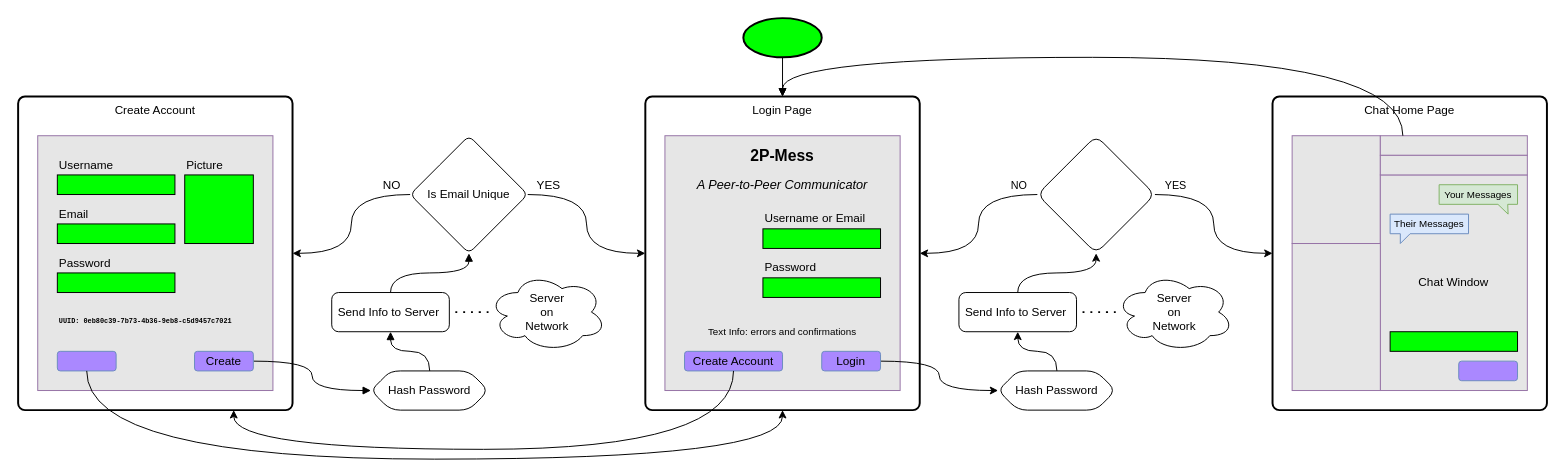
Image size: 1564x476. Some labels were removed from this diagram. The centre of each missing label's shape, as x and y in pixels:
"Account Menu" goes at point 1453,145.
"Cancel" goes at point 86,360.
"Channel List - Channel1 - Channel2" goes at point 1335,317.
"Chat/Channel Menu" goes at point 1453,164.
"Is Login Credentials Correct?" goes at point 1095,194.
"Send" goes at point 1488,370.
"Start" goes at point 782,37.
"User List - User1 - User2" goes at point 1335,189.
